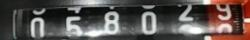digits: (214, 3, 233, 34), (65, 16, 83, 40), (28, 16, 45, 40), (140, 11, 157, 34), (176, 2, 194, 23), (103, 10, 119, 33)
